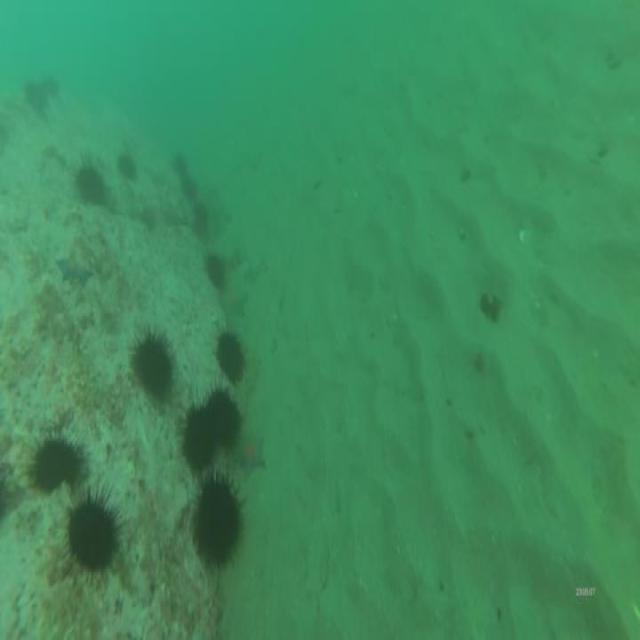echinus: (194, 480, 241, 564), (68, 501, 114, 569), (33, 436, 80, 493), (132, 337, 170, 398), (184, 408, 218, 466), (205, 389, 240, 444), (216, 330, 245, 386), (77, 166, 106, 204), (206, 251, 225, 289), (24, 80, 47, 110), (117, 152, 137, 180), (191, 204, 209, 227), (183, 175, 197, 196), (172, 153, 184, 171)
starfish: (236, 433, 265, 479), (58, 250, 92, 286)
